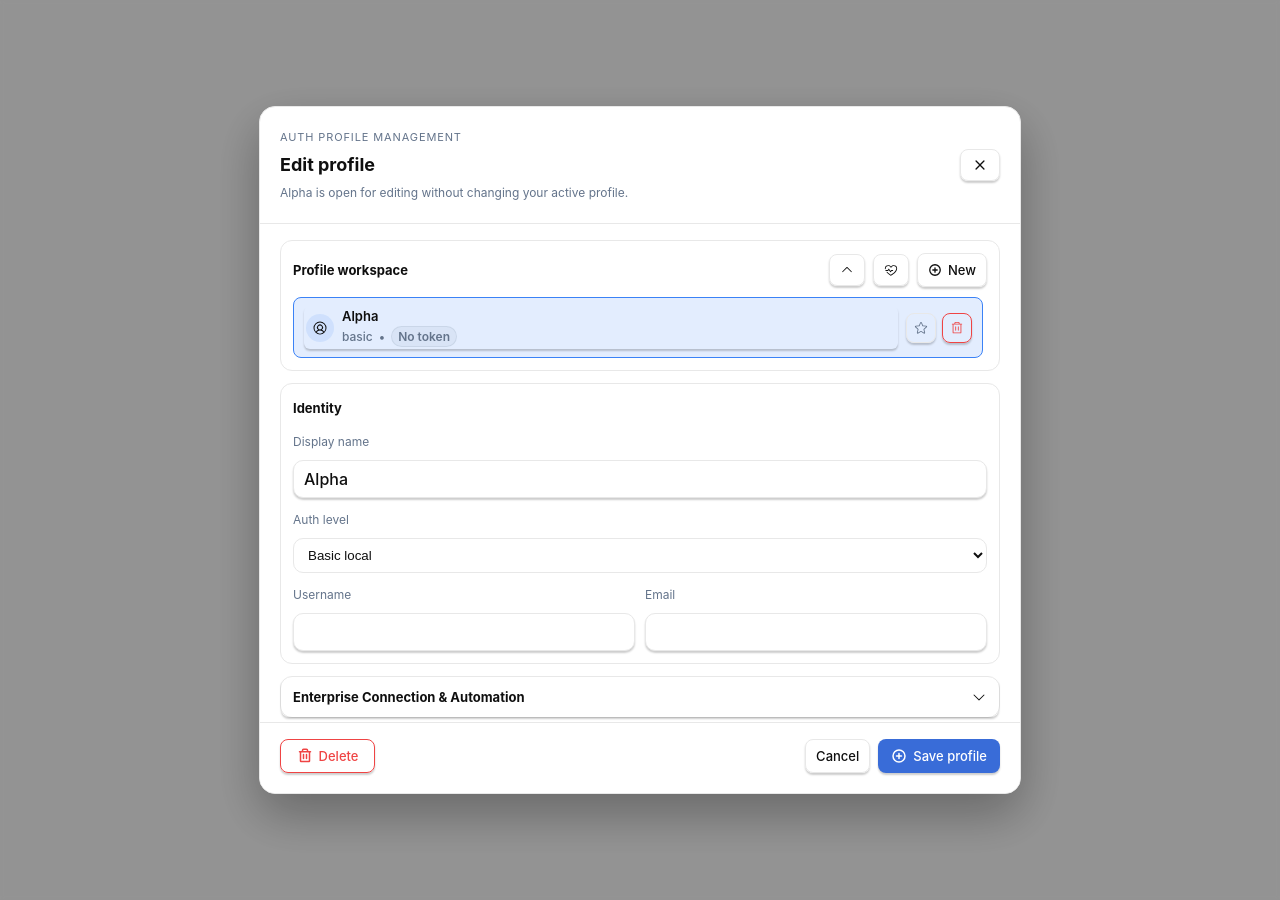
Scenario: ProfileManagementModal › warns that a fresh default profile will be recreated after deleting the final profile
This screenshot has width=1280, height=900.
Click the button "Delete".
click(328, 756)  # box [280,739,375,773]
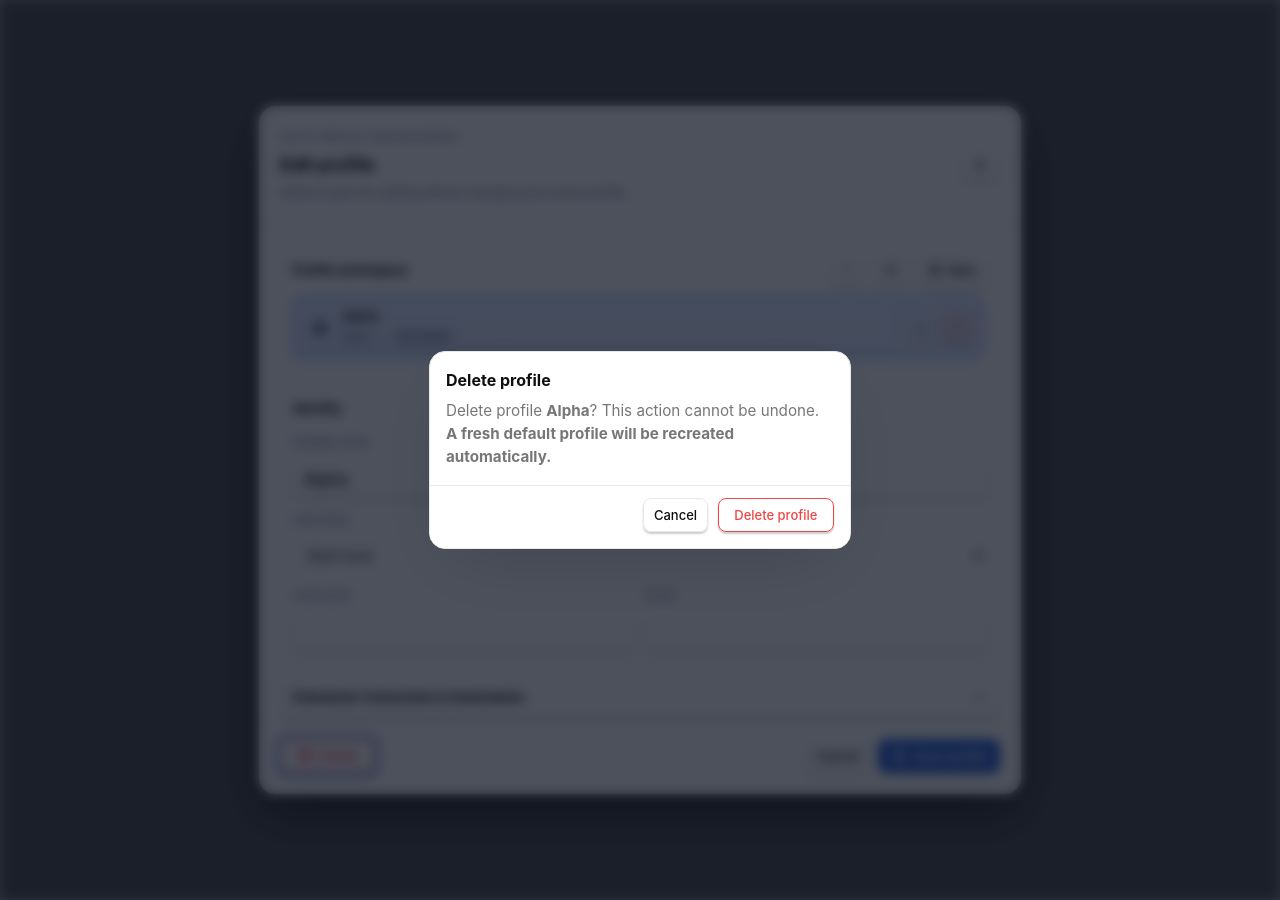
Result: the text "A fresh default profile will be recreated automatically." is shown at [446,424,734,466]
